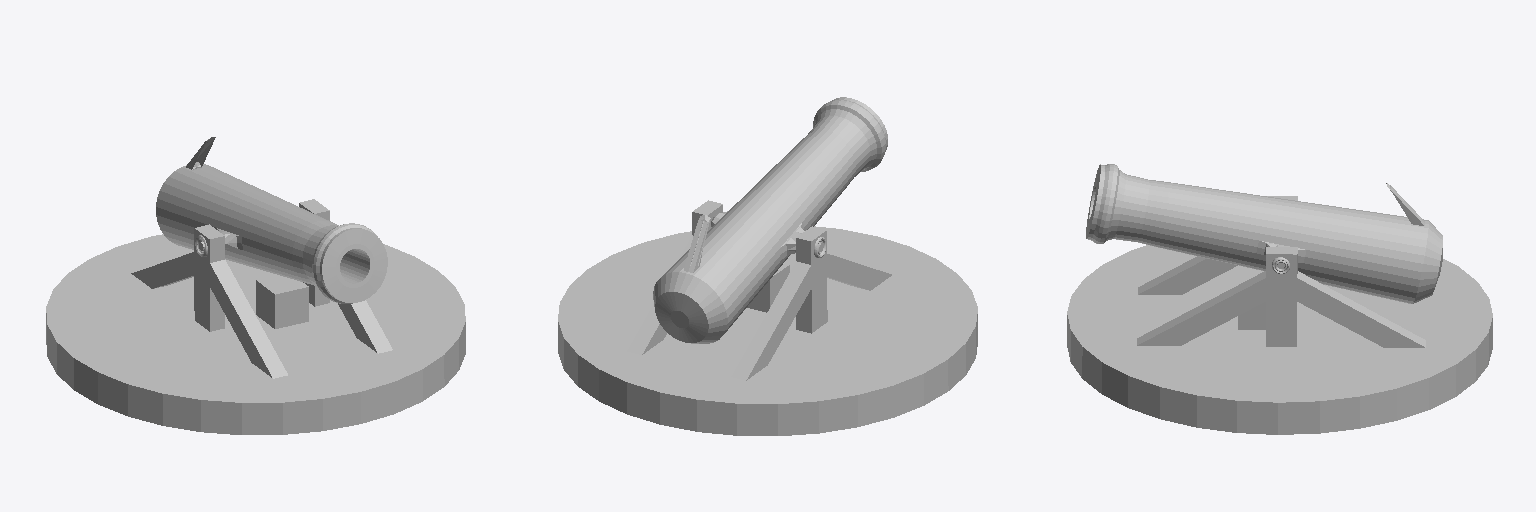
The model's file is CannonRight.obj.
The picture shows the model from 3 angles: view 1: azimuth 30°, elevation 25°; view 2: azimuth 150°, elevation 25°; view 3: azimuth 270°, elevation 25°; orthographic projection.
Parts seen in each view (by area): view 1: Cylinder, Canon_Cylinder, Canon_Frame_Cube, Cube.001, Canon_Frame_Cube.001; view 2: Cylinder, Canon_Cylinder, Canon_Frame_Cube, Canon_Frame_Cube.001, Cube.001; view 3: Cylinder, Canon_Cylinder, Canon_Frame_Cube.001, Canon_Frame_Cube, Cube.001.
Part boxes in pixels (x1,y1,x2,y2): Cylinder: (46,234,465,434); Canon_Cylinder: (156,137,387,303); Canon_Frame_Cube: (131,224,287,378); Cube.001: (256,275,308,328); Canon_Frame_Cube.001: (299,199,392,353); Cylinder: (558,226,977,435); Canon_Cylinder: (653,97,887,343); Canon_Frame_Cube: (731,226,891,380); Canon_Frame_Cube.001: (627,200,722,354); Cube.001: (747,263,789,312); Cylinder: (1067,245,1492,434); Canon_Cylinder: (1086,164,1442,303); Canon_Frame_Cube.001: (1137,247,1425,347); Canon_Frame_Cube: (1138,196,1297,294); Cube.001: (1238,279,1265,329).
Size of the model in its own units: 21.63 by 10.39 by 22.